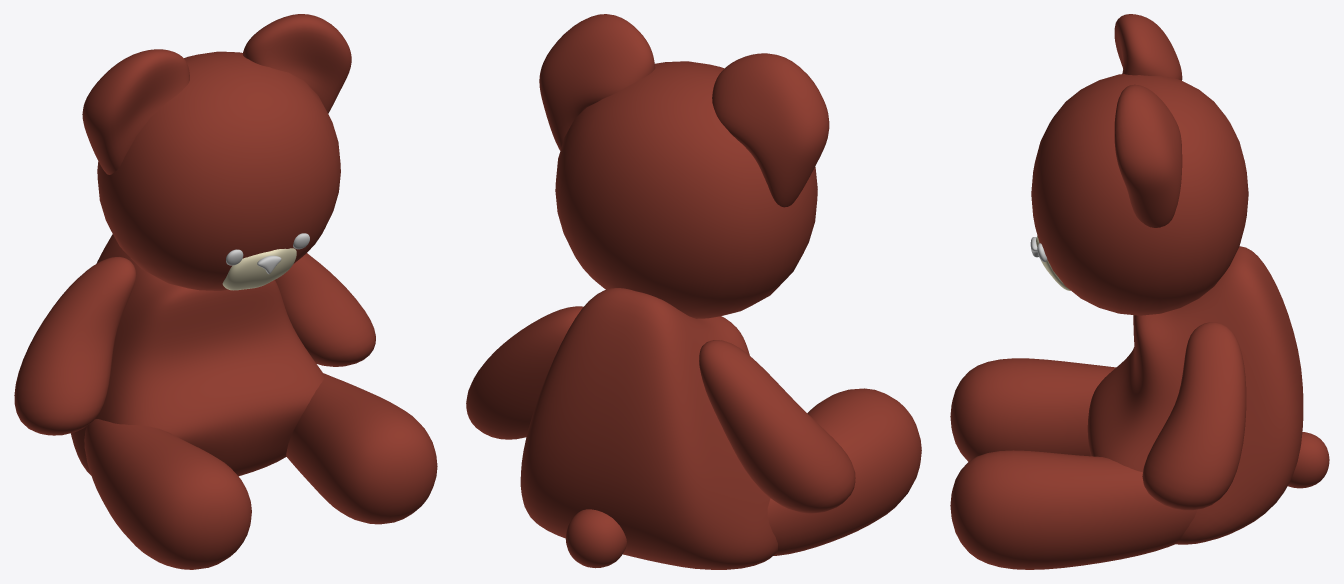
The model's file is TeddyBearfbx.fbx.
The picture shows the model from 3 angles, left to right: view 1: azimuth 30°, elevation 25°; view 2: azimuth 150°, elevation 25°; view 3: azimuth 270°, elevation 25°; orthographic projection. The views are drawn at different scales.
Visible parts, largest first — view 1: Cube.008; view 2: Cube.008; view 3: Cube.008.
Part boxes in pixels (x1,y1,x2,y2): Cube.008: (14, 14, 437, 569); Cube.008: (466, 14, 921, 569); Cube.008: (950, 14, 1329, 569).
Bounding box in the file's own units: 434 × 553 × 410.
